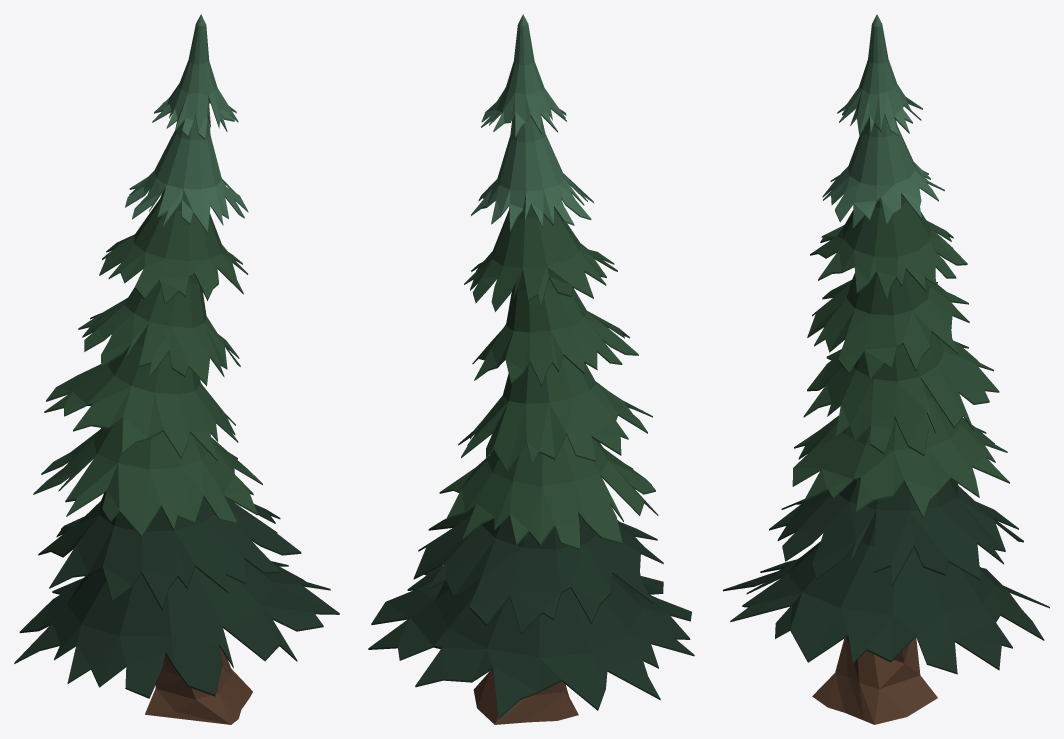
File: MediumTree.fbx
3 views of the same model, side by side, from view 1: azimuth 30°, elevation 25°; view 2: azimuth 150°, elevation 25°; view 3: azimuth 270°, elevation 25° (orthographic).
Parts seen in each view (by area): view 1: Bark; view 2: Bark; view 3: Bark.
Part boxes in pixels (bbox=[...]): Bark: bbox=[14, 14, 339, 724]; Bark: bbox=[368, 14, 694, 724]; Bark: bbox=[723, 14, 1049, 724].
Bounding box in the file's own units: 854 × 2017 × 868.
